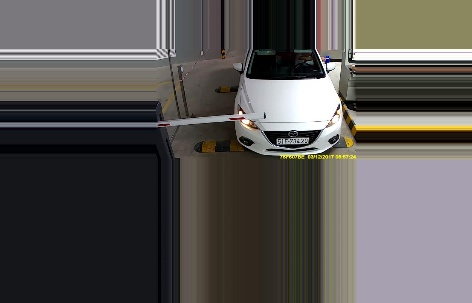plate: (277, 134, 312, 148)
